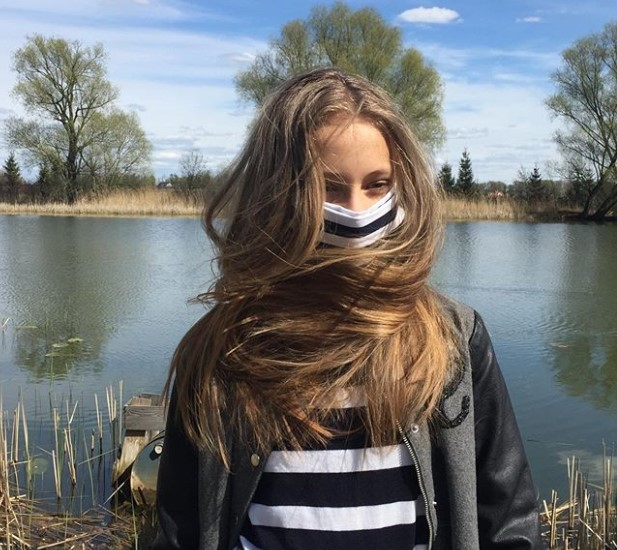face_with_mask: (285, 99, 417, 273)
